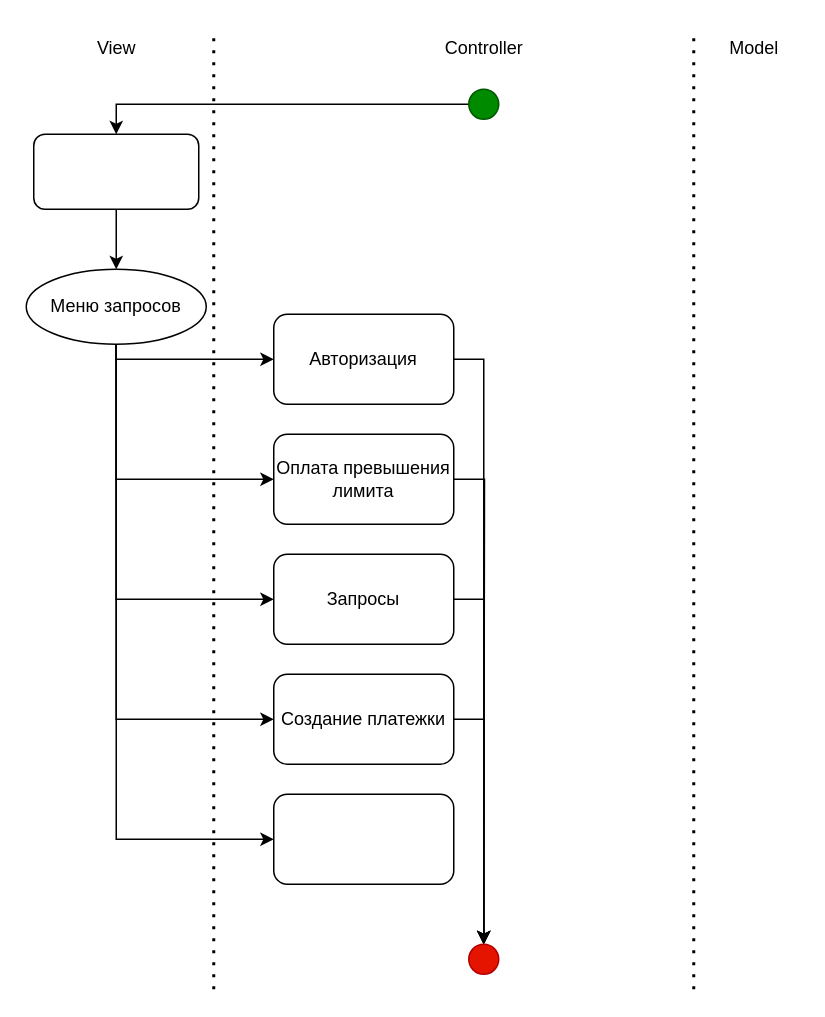
This 825x1017 diagram has some shape labels left out. The shapes that lost their labels are listed below. From the top down, each one's box as (x1, y1, x2, y2) in pixels, then its label:
(32, 133, 199, 209): Выдать меню запросов
(272, 793, 454, 884): Выход
